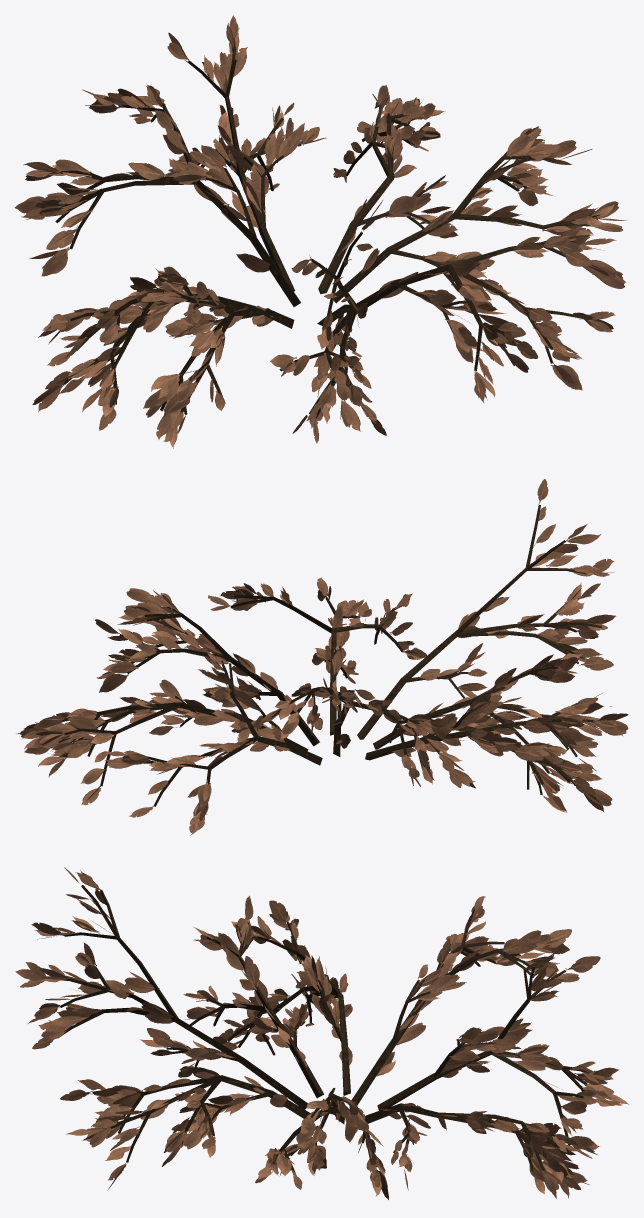
File: salal_understory_v02_LOD1.fbx
3 renders of one model, top to bottom at view 1: azimuth 30°, elevation 25°; view 2: azimuth 150°, elevation 25°; view 3: azimuth 270°, elevation 25°, orthographic. The views are drawn at different scales.
Parts seen in each view (by area): view 1: salal_understory_v02_LOD1; view 2: salal_understory_v02_LOD1; view 3: salal_understory_v02_LOD1.
Boxes of the visible parts, x1,y1,x2,y2 form: salal_understory_v02_LOD1: (14, 15, 627, 448); salal_understory_v02_LOD1: (16, 479, 628, 835); salal_understory_v02_LOD1: (15, 867, 628, 1199).
Size of the model in its own units: 219 by 96.13 by 223.
Materials: 2 (2 with a texture image).
